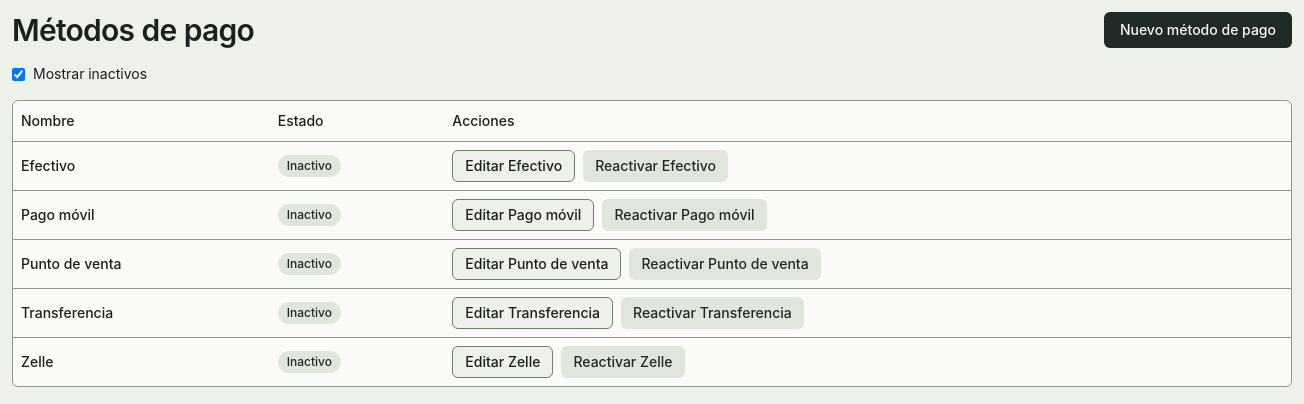
Scenario: PaymentMethodsPage › muestra el estado vacío cuando no hay métodos
Expected: the row "Efectivo Inactivo Editar Efectivo Reactivar Efectivo" is shown, [13,142,1291,190]
Click the checkbox labelled "Mostrar inactivos": coordinates (18, 74) [12,68,25,80]
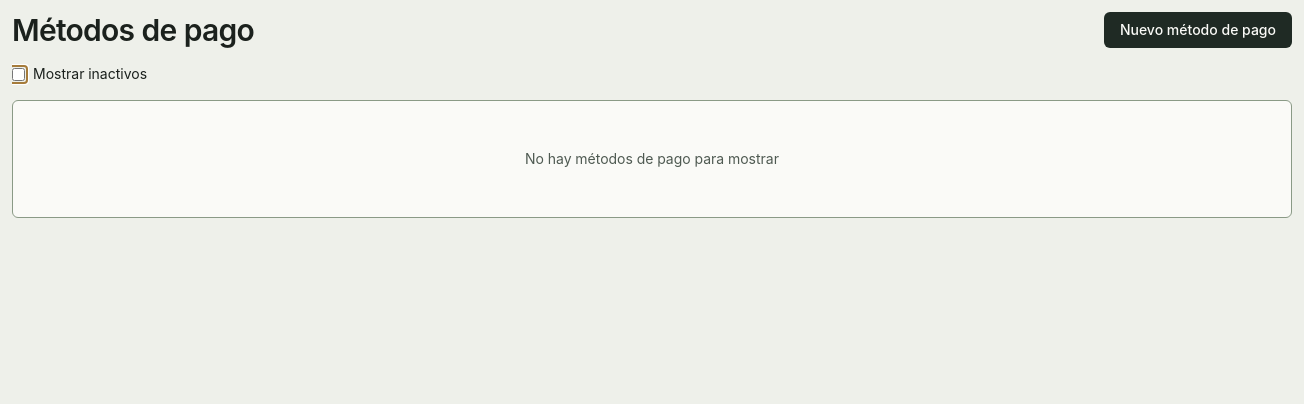
Expected: the text "No hay métodos de pago para mostrar" is shown, [525,150,779,167]
Expected: the table is gone
